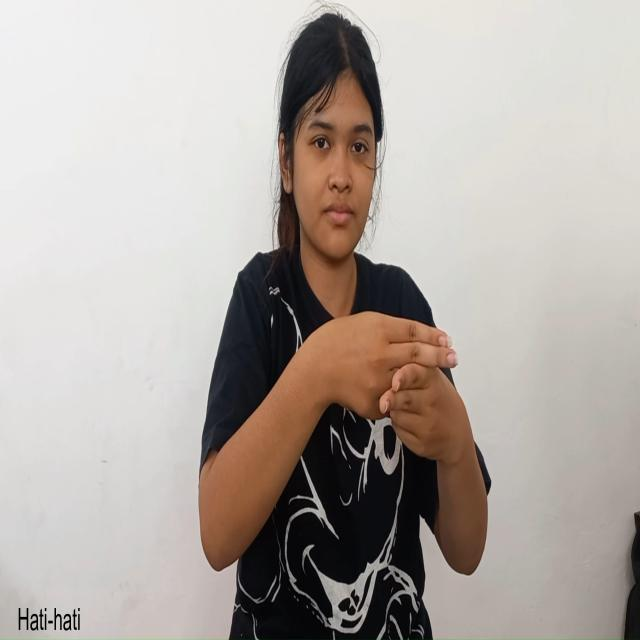Hati-hati -BISINDO-: (329, 297, 485, 484)
